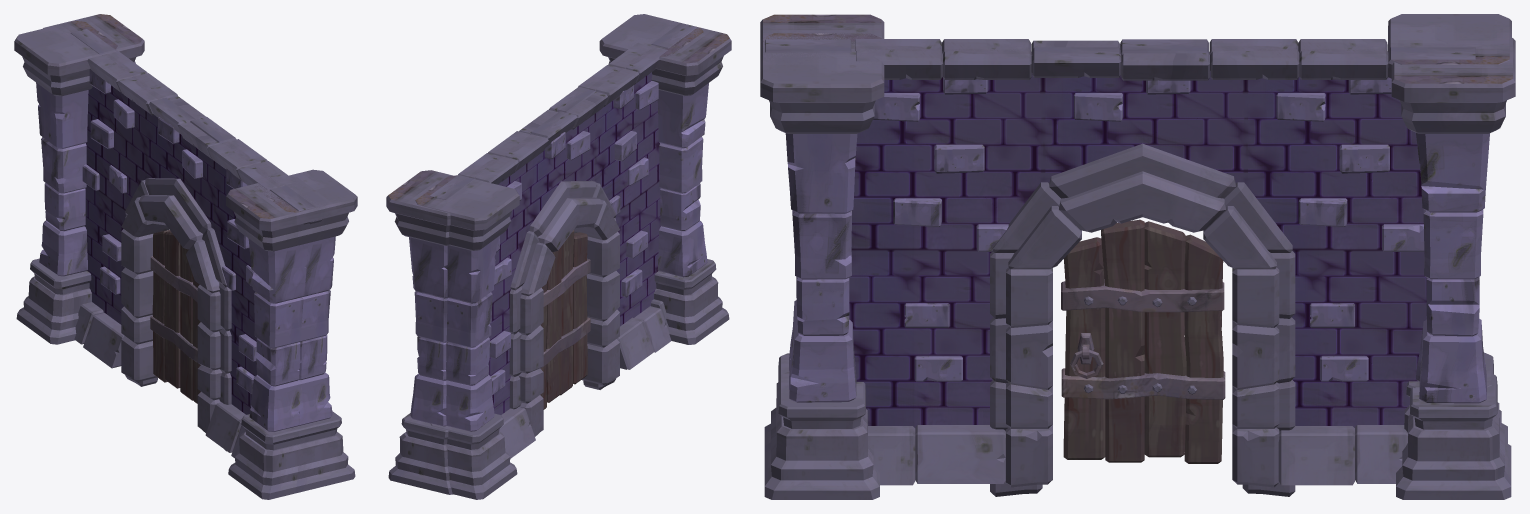
The model's file is WallDoor_01.fbx.
3 renders of one model, left to right at view 1: azimuth 30°, elevation 25°; view 2: azimuth 150°, elevation 25°; view 3: azimuth 270°, elevation 25°, orthographic. The views are drawn at different scales.
Parts seen in each view (by area): view 1: WallDoor_01; view 2: WallDoor_01; view 3: WallDoor_01.
Boxes of the visible parts, x1=… form: WallDoor_01: x1=14, y1=14, x2=357, y2=499; WallDoor_01: x1=386, y1=14, x2=731, y2=499; WallDoor_01: x1=760, y1=14, x2=1515, y2=499.
Size of the model in its own units: 166 by 483 by 745.
